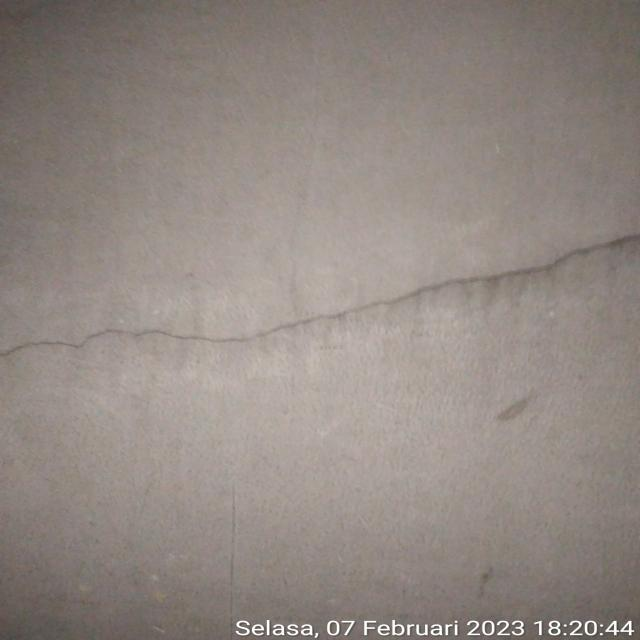Crack: (2, 235, 635, 362)
